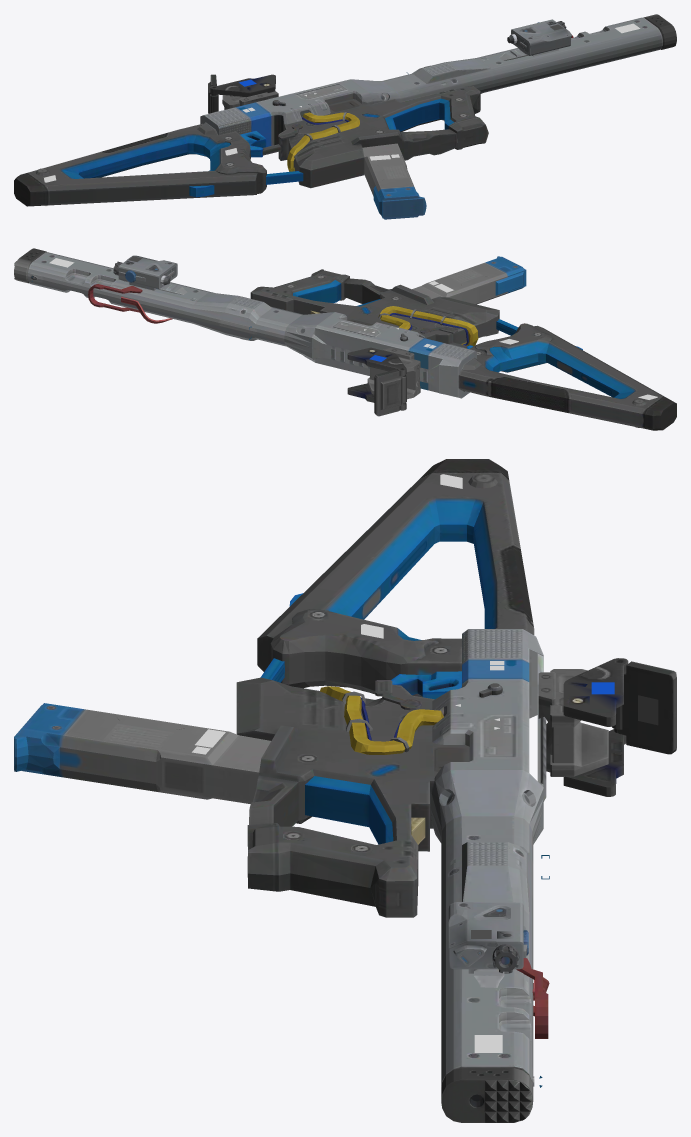
The picture shows the model from 3 angles, top to bottom: view 1: azimuth 30°, elevation 25°; view 2: azimuth 150°, elevation 25°; view 3: azimuth 270°, elevation 25°; orthographic projection. The views are drawn at different scales.
Visible parts, largest first — view 1: wp01a_a001c_sm.mo, wp01a_magazine001c_sm.mo, wp01a_scope001c_sm.mo, wp01a_attach001c_sm.mo, wp01a_muzzle001c_sm.mo; view 2: wp01a_a001c_sm.mo, wp01a_scope001c_sm.mo, wp01a_magazine001c_sm.mo, wp01a_attach001c_sm.mo, wp01a_muzzle001c_sm.mo; view 3: wp01a_a001c_sm.mo, wp01a_magazine001c_sm.mo, wp01a_scope001c_sm.mo, wp01a_attach001c_sm.mo, wp01a_muzzle001c_sm.mo.
Boxes of the visible parts, x1,y1,x2,y2 form: wp01a_a001c_sm.mo: [14, 17, 662, 206]; wp01a_magazine001c_sm.mo: [362, 143, 426, 219]; wp01a_scope001c_sm.mo: [208, 74, 278, 113]; wp01a_attach001c_sm.mo: [507, 19, 571, 56]; wp01a_muzzle001c_sm.mo: [643, 14, 676, 49]; wp01a_a001c_sm.mo: [27, 252, 676, 430]; wp01a_scope001c_sm.mo: [347, 347, 420, 416]; wp01a_magazine001c_sm.mo: [412, 256, 526, 304]; wp01a_attach001c_sm.mo: [113, 255, 177, 290]; wp01a_muzzle001c_sm.mo: [14, 248, 46, 283]; wp01a_a001c_sm.mo: [236, 459, 549, 1088]; wp01a_magazine001c_sm.mo: [14, 703, 271, 803]; wp01a_scope001c_sm.mo: [538, 658, 676, 796]; wp01a_attach001c_sm.mo: [448, 902, 528, 973]; wp01a_muzzle001c_sm.mo: [441, 1068, 533, 1122].
Size of the model in its own units: 0.7753 by 0.0588 by 0.3479.
Materials: 6 (5 with a texture image).
